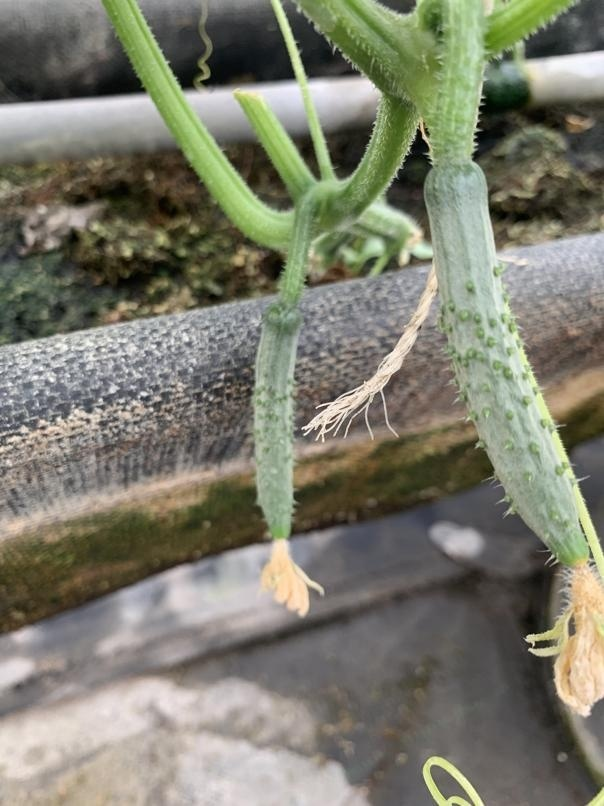bear: (239, 301, 323, 601)
growth: (414, 152, 598, 628)
